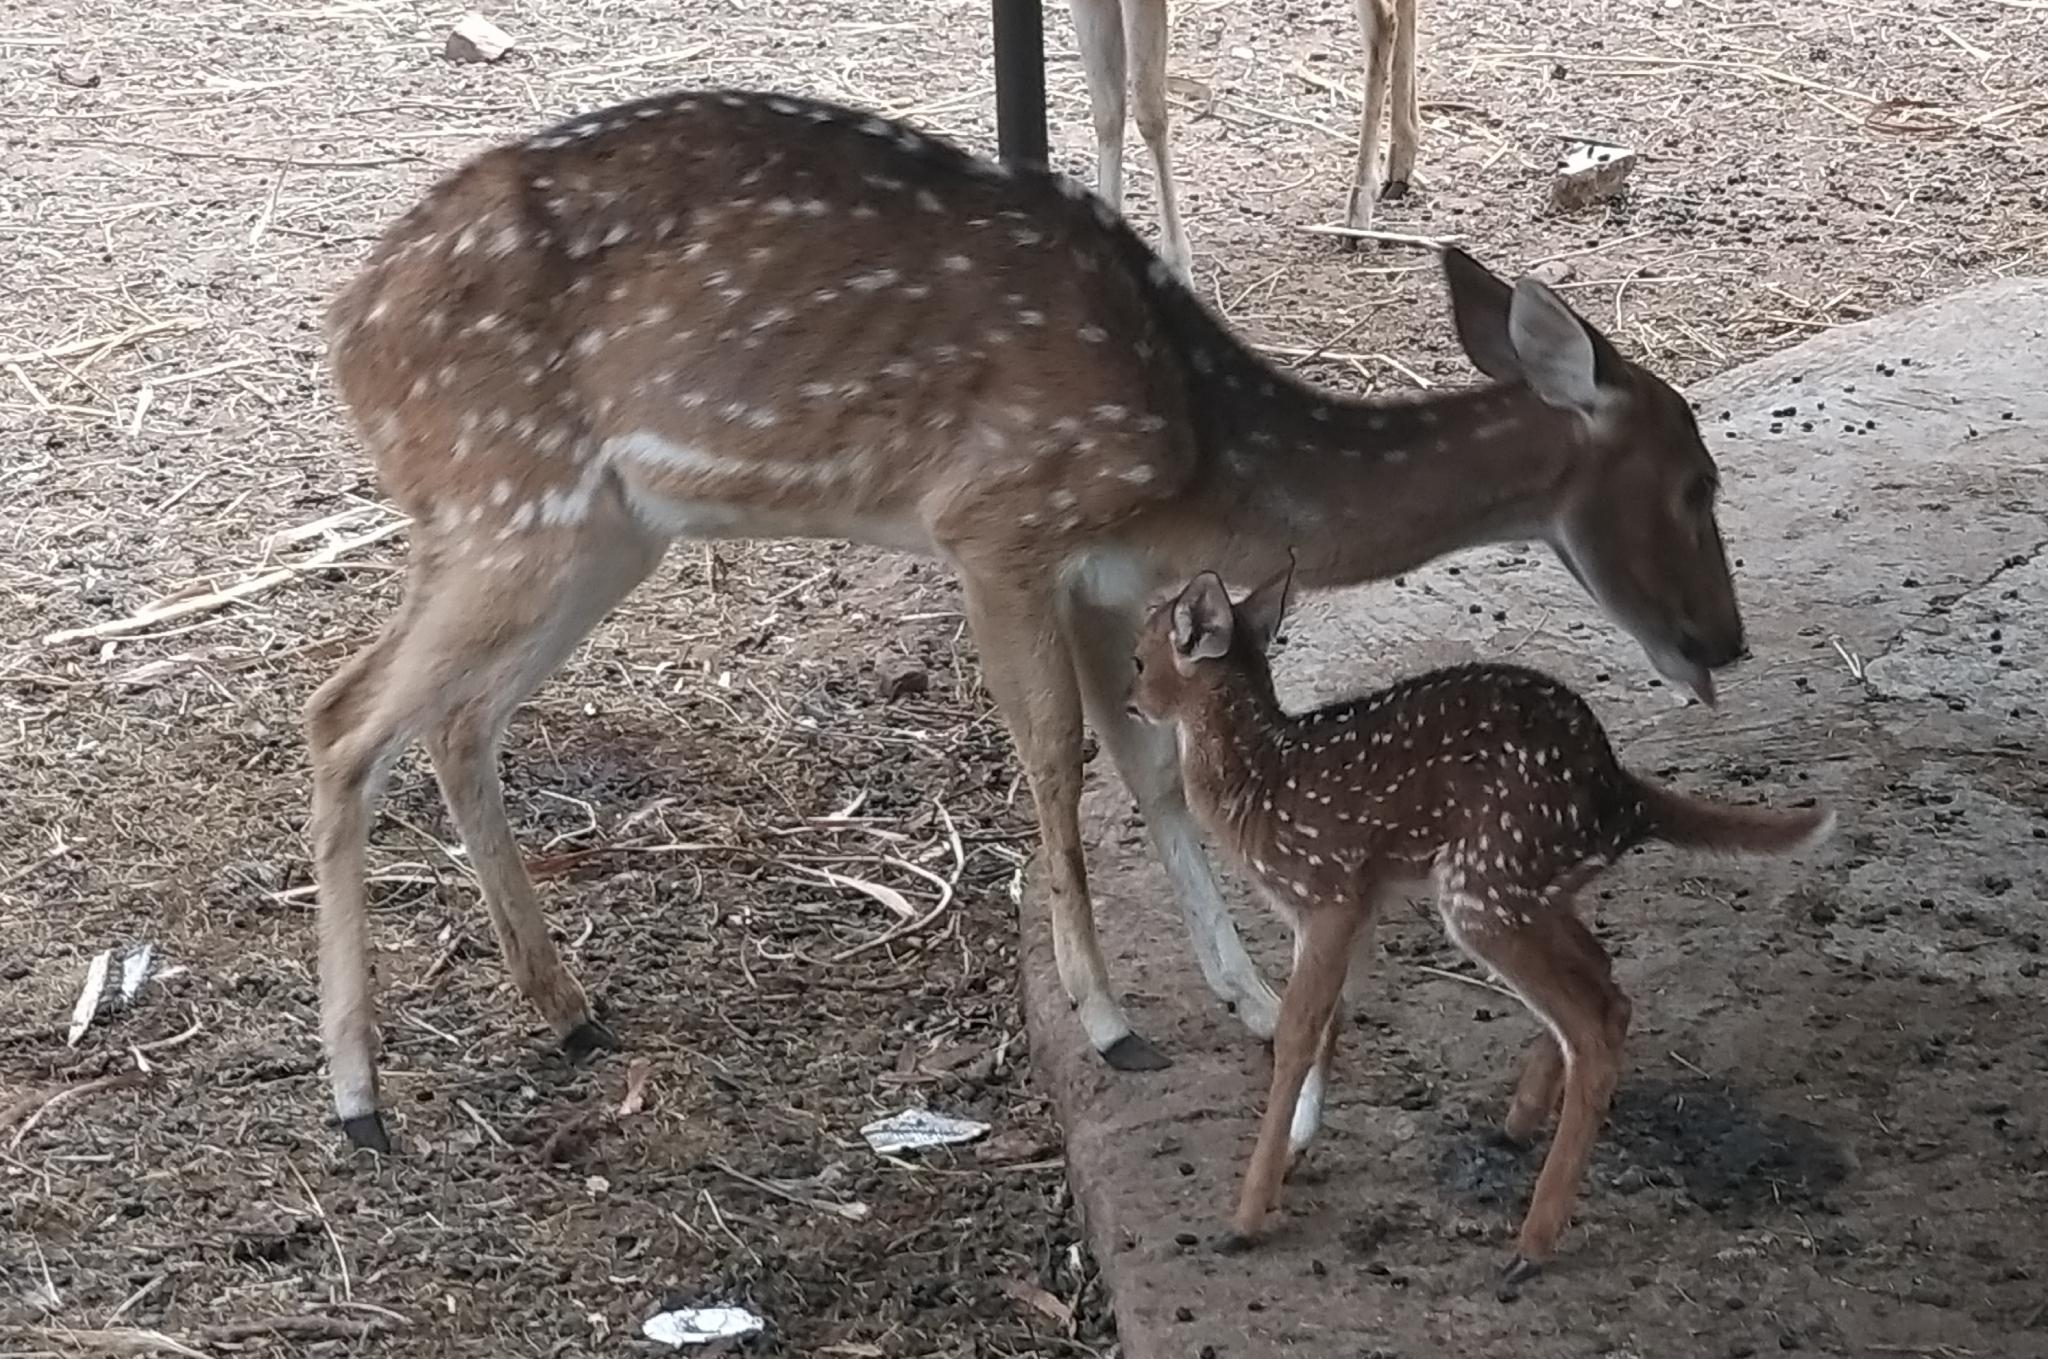Deer: (306, 89, 1746, 1147), (1105, 563, 1830, 1285)
